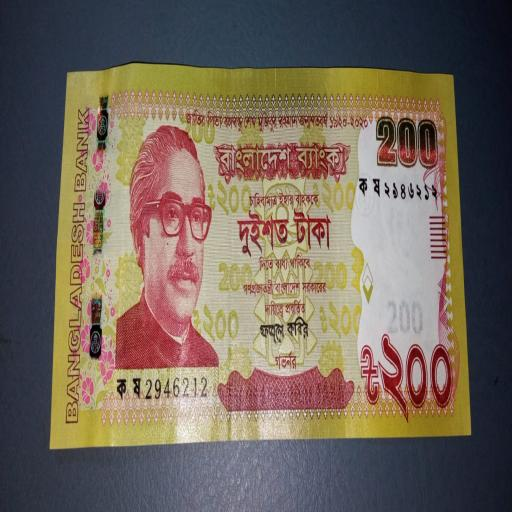200taka: (51, 64, 470, 448)
